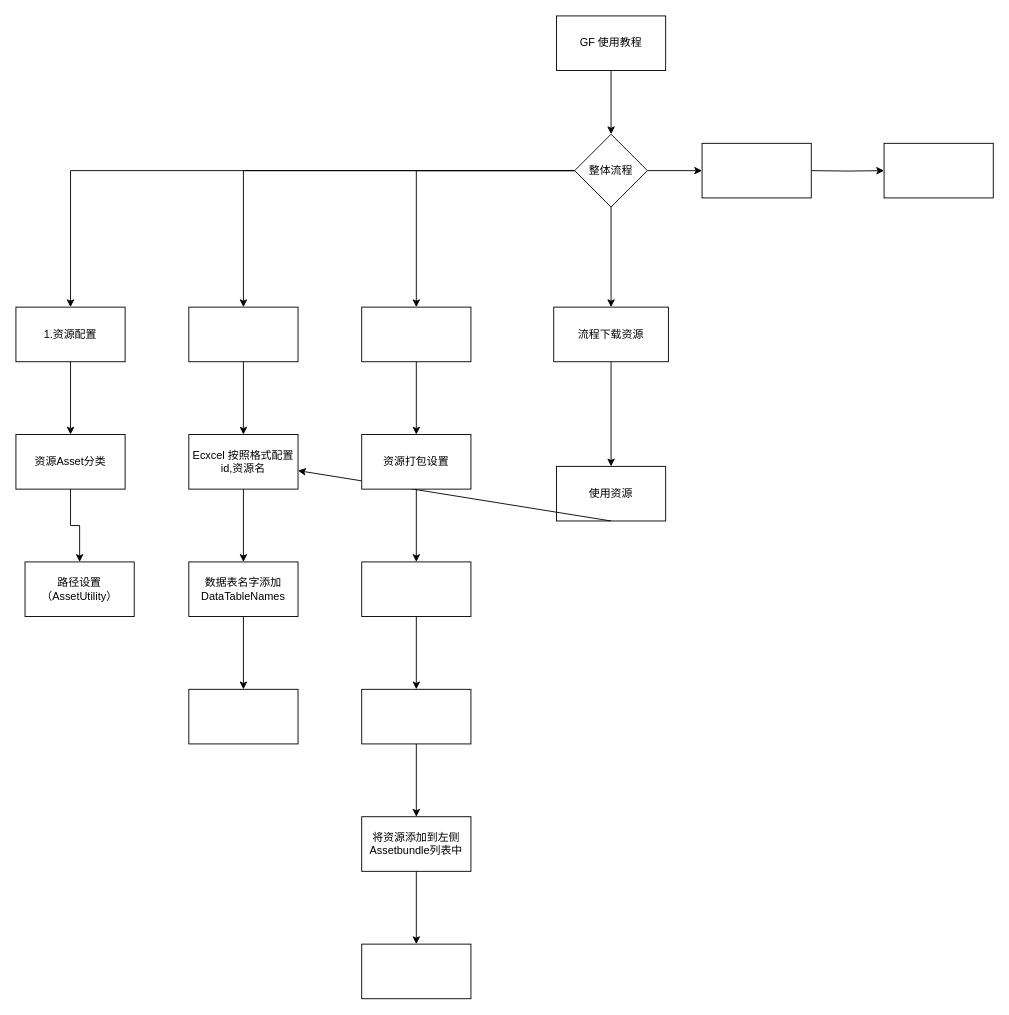
Some shapes in this 1009 by 1015 pixel diagram are drawn without their labels. Here are the shapes that lost their labels. From the top down, the box of each, then its label:
(188, 306, 298, 362): 数据表配置
(361, 306, 471, 362): AB包
(361, 561, 471, 617): AssetBuilderEditor 1.AB包打包设置
(188, 688, 298, 744): 编辑器Generator code
(361, 688, 471, 744): 资源路径设置正确
(361, 943, 471, 999): 保存打包信息
